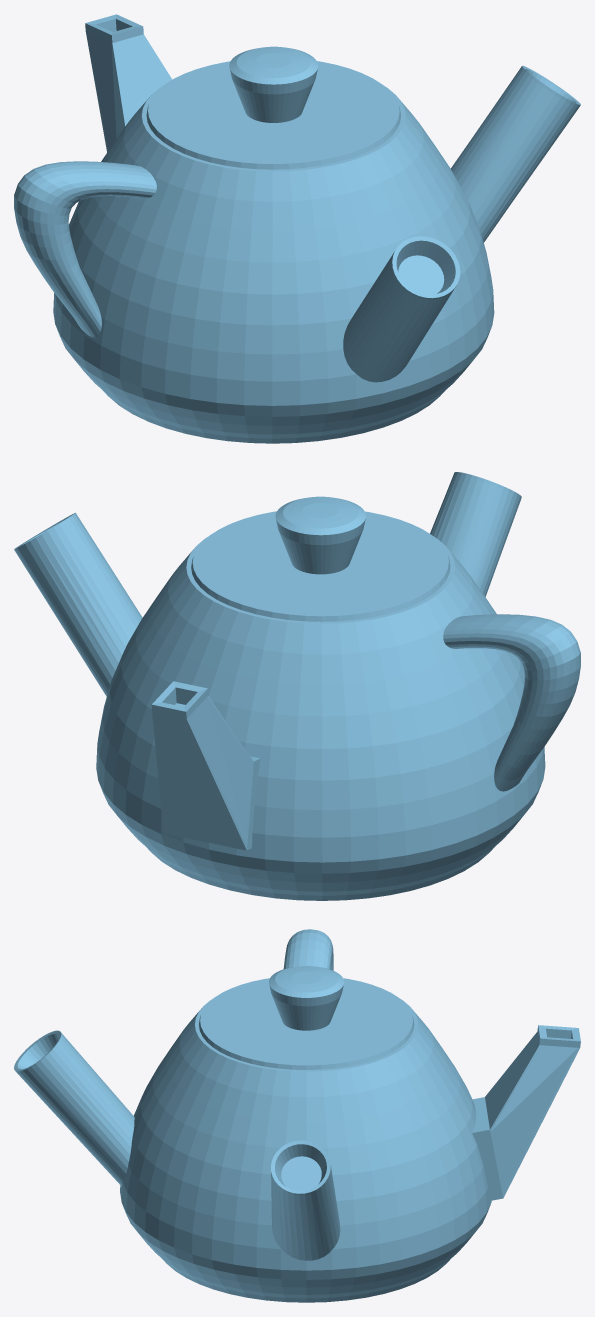
The model's file is cream_pitcher_1.glb.
3 views of the same model, one above another, from view 1: azimuth 30°, elevation 25°; view 2: azimuth 150°, elevation 25°; view 3: azimuth 270°, elevation 25° (orthographic). The views are drawn at different scales.
Visible parts, largest first — view 1: world; view 2: world; view 3: world.
Boxes of the visible parts, bbox=[...] form: world: bbox=[14, 14, 580, 443]; world: bbox=[14, 472, 580, 900]; world: bbox=[14, 929, 580, 1302].
Size of the model in its own units: 0.0369 by 0.0197 by 0.0387.
